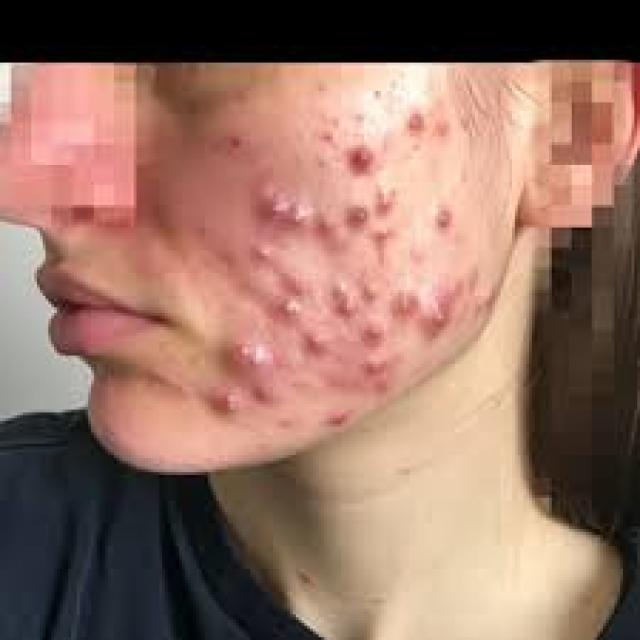Acne: (228, 119, 474, 436)
